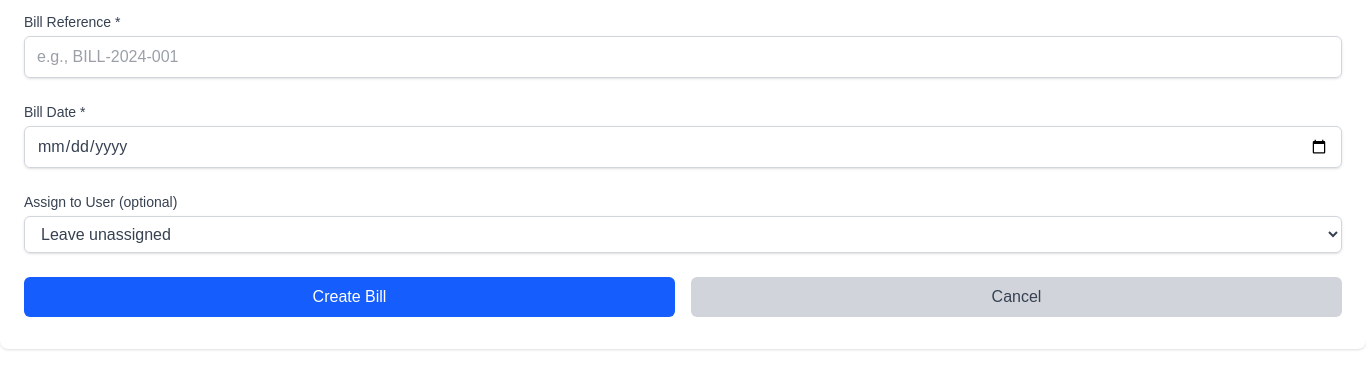
Test case: BillForm › shows error when bill reference already exists
Type "BILL-EXISTING" into the field with test id "bill-reference-input".
click(683, 57); type("BILL-EXISTING")  # box [24,36,1342,78]
Wait 500 ms
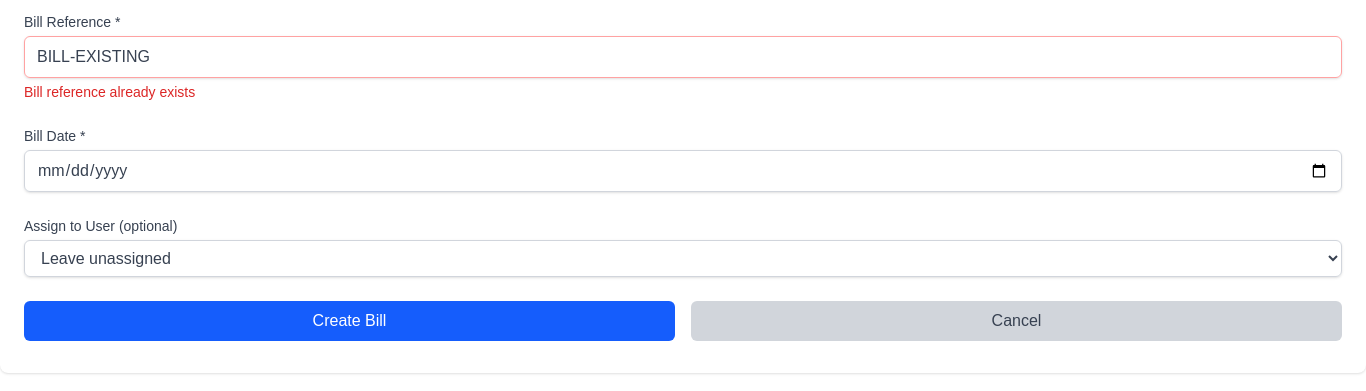
Now the text "Bill reference already exists" is shown, box [24,84,195,100]
